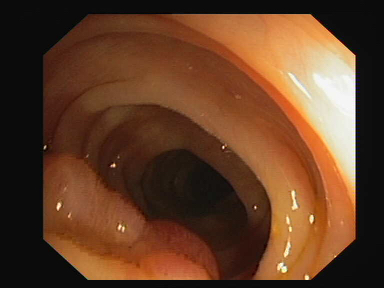polyp: (42, 156, 142, 255), (142, 220, 217, 279)
